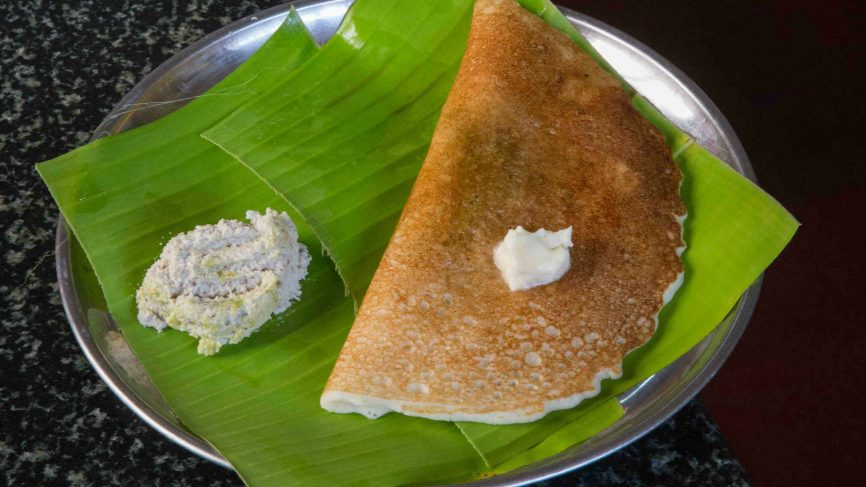dosa: (315, 2, 690, 427)
